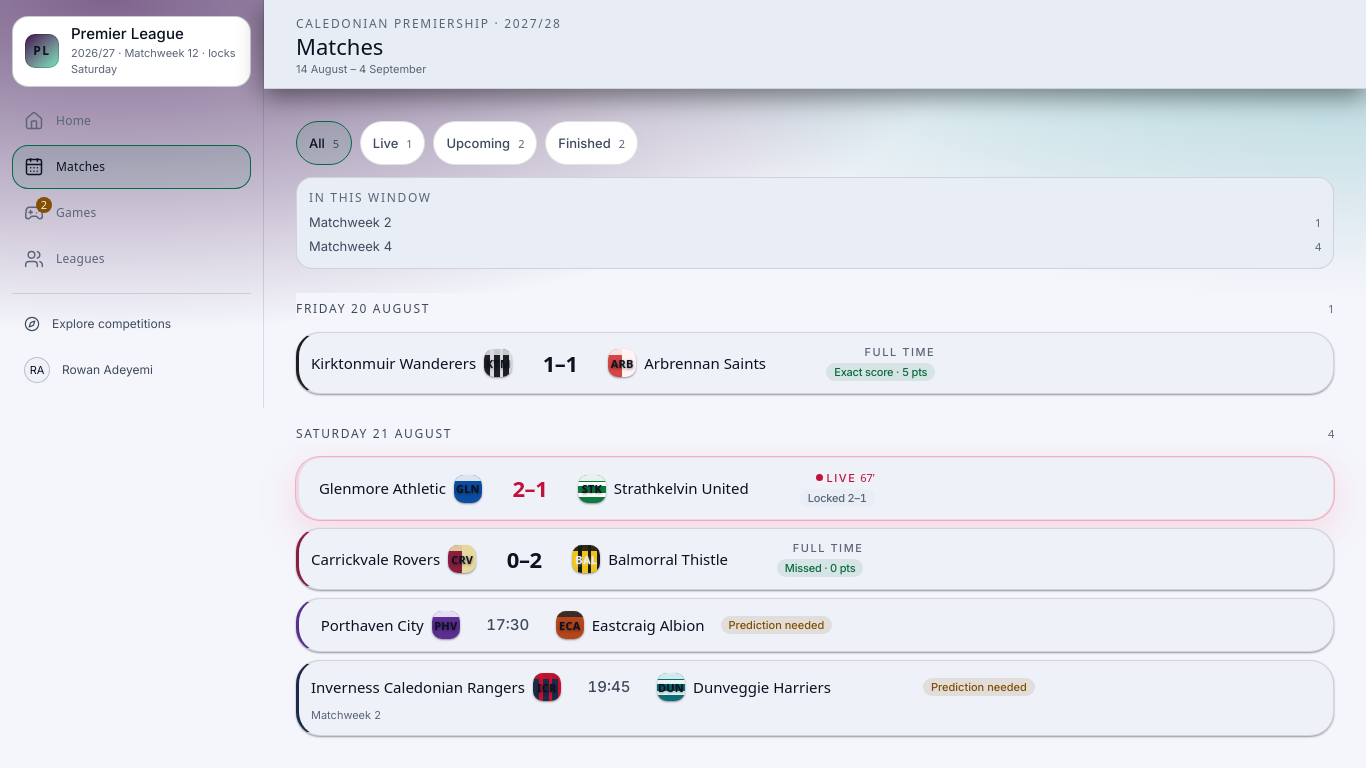
Test case: browsing › drops a day that has nothing left in it rather than leaving the heading
Expected: the heading "Friday 20 August 1" is shown, [296, 293, 1334, 324]
Click the button "Live 1" at (393, 143), box [360, 121, 426, 165]
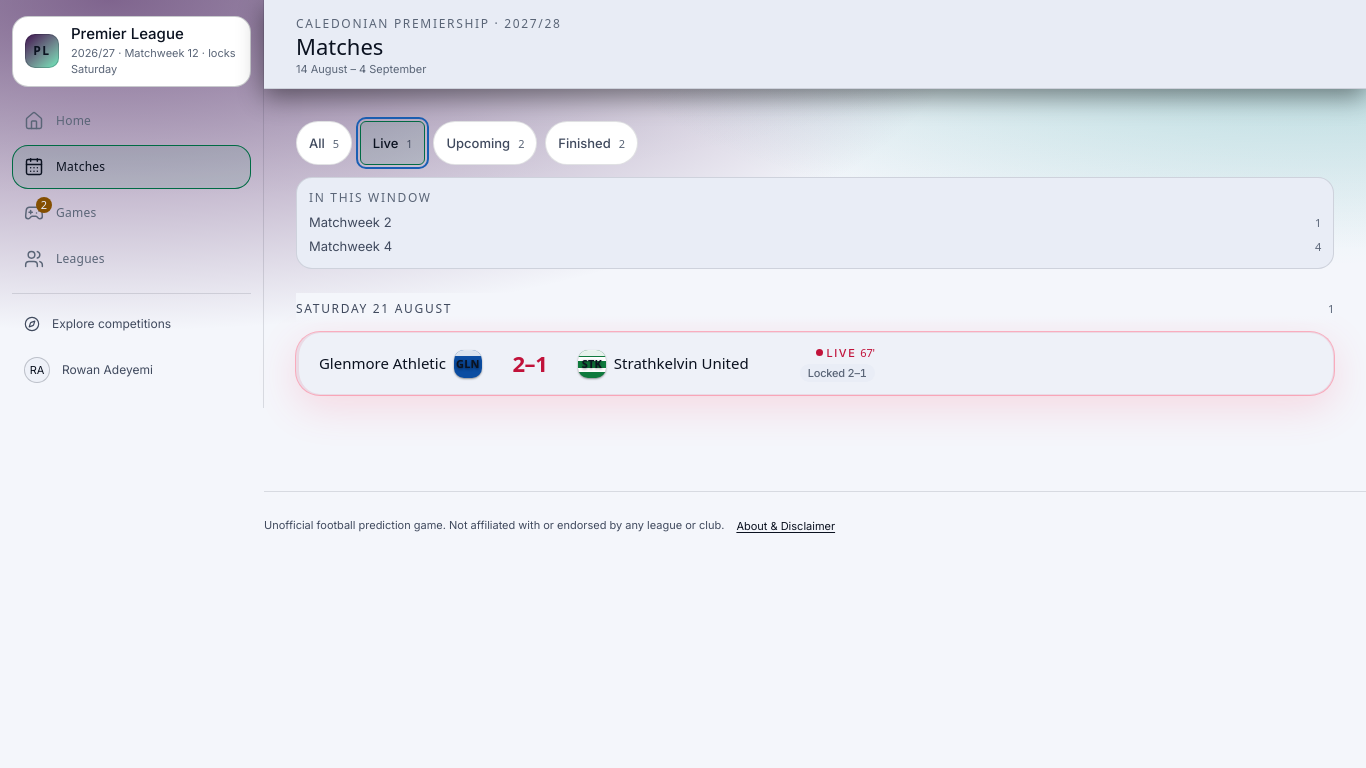
Expected: the heading "Friday 20 August" is gone
